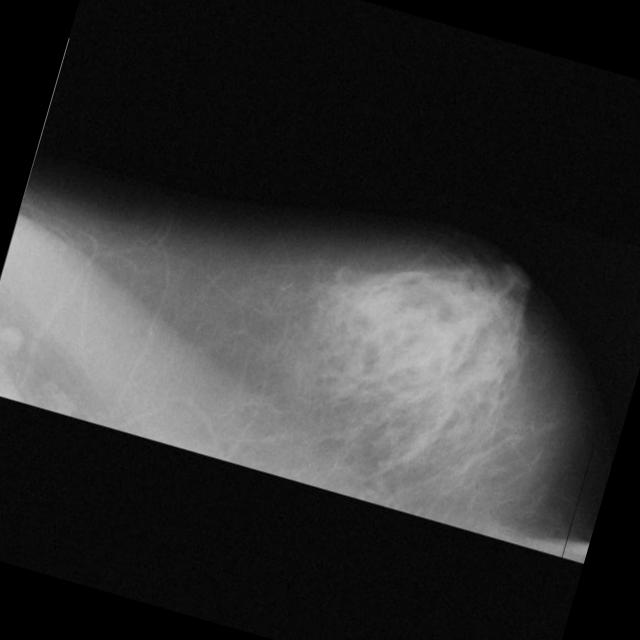CALC: (392, 443, 412, 463)
